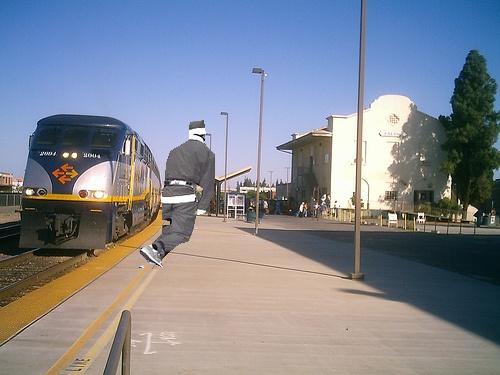tampered: (140, 121, 215, 268)
